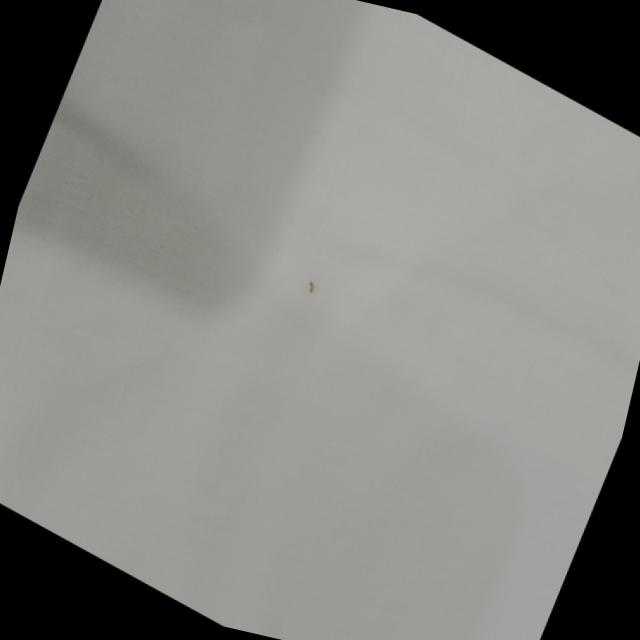stain: (295, 260, 331, 303)
